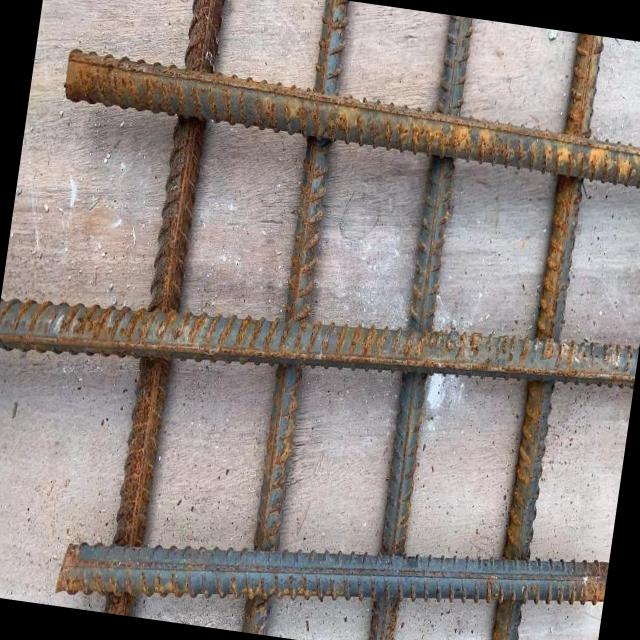ribbed bar: (0, 253, 640, 444), (50, 484, 609, 640), (59, 45, 640, 194), (98, 0, 230, 613), (357, 15, 482, 640), (235, 0, 356, 635), (485, 33, 604, 640)
